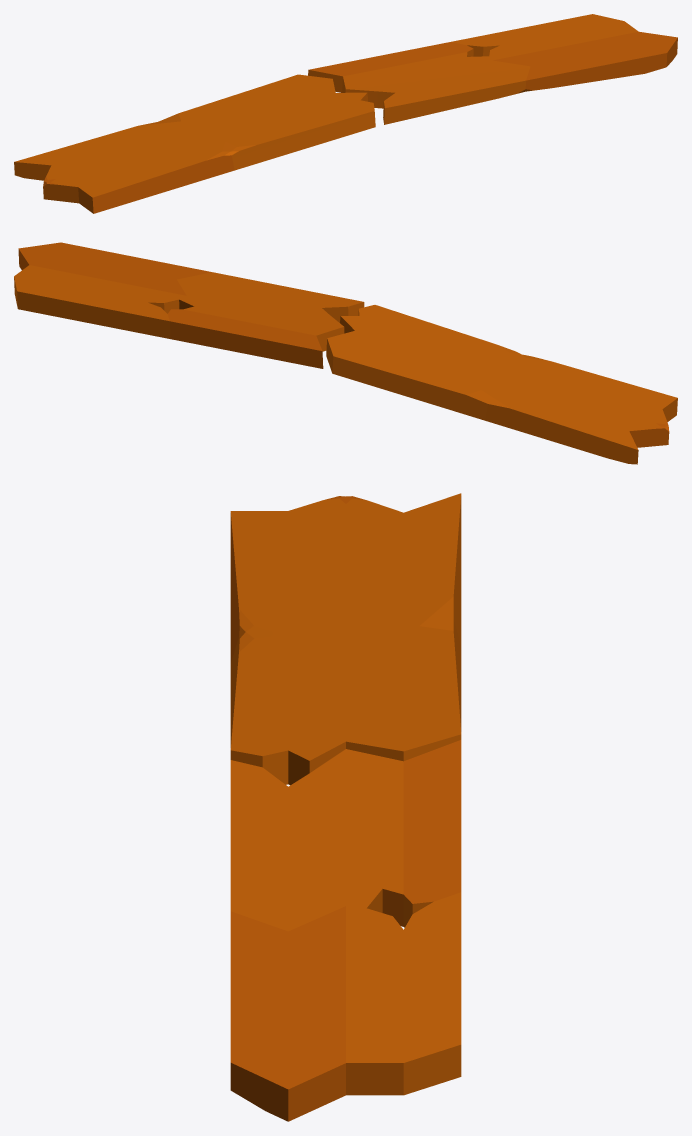
Rendered from Rotten and broken wood_3.fbx.
3 renders of one model, top to bottom at view 1: azimuth 30°, elevation 25°; view 2: azimuth 150°, elevation 25°; view 3: azimuth 270°, elevation 25°, orthographic. The views are drawn at different scales.
Visible parts, largest first — view 1: Cube.022, Cube.018; view 2: Cube.022, Cube.018; view 3: Cube.018, Cube.022.
Part boxes in pixels (x1,y1,x2,y2): Cube.022: (14,74,375,213); Cube.018: (308,14,677,124); Cube.022: (326,305,677,464); Cube.018: (14,242,364,368); Cube.018: (230,740,461,1121); Cube.022: (230,493,461,785).
Size of the model in its own units: 81.19 by 4.6 by 13.07.
